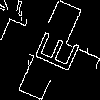E: (25, 25, 80, 74)
